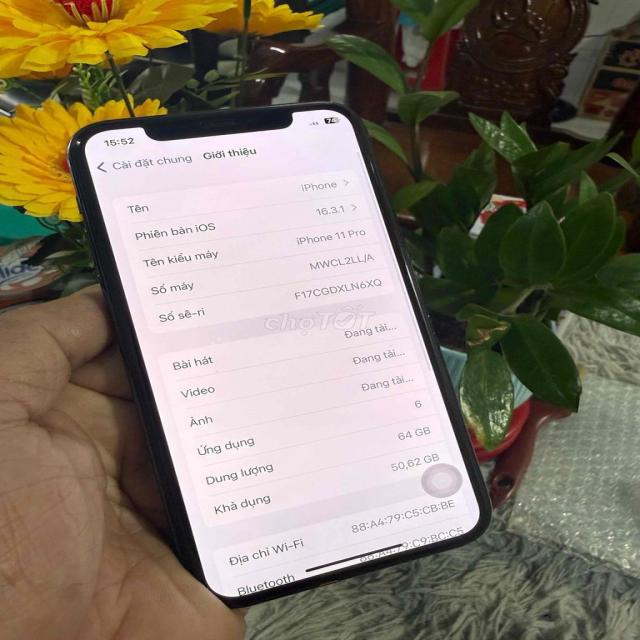gen_11: (68, 96, 494, 612)
